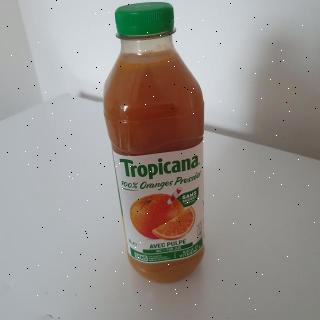Plastic-bottle: (98, 1, 208, 285)
